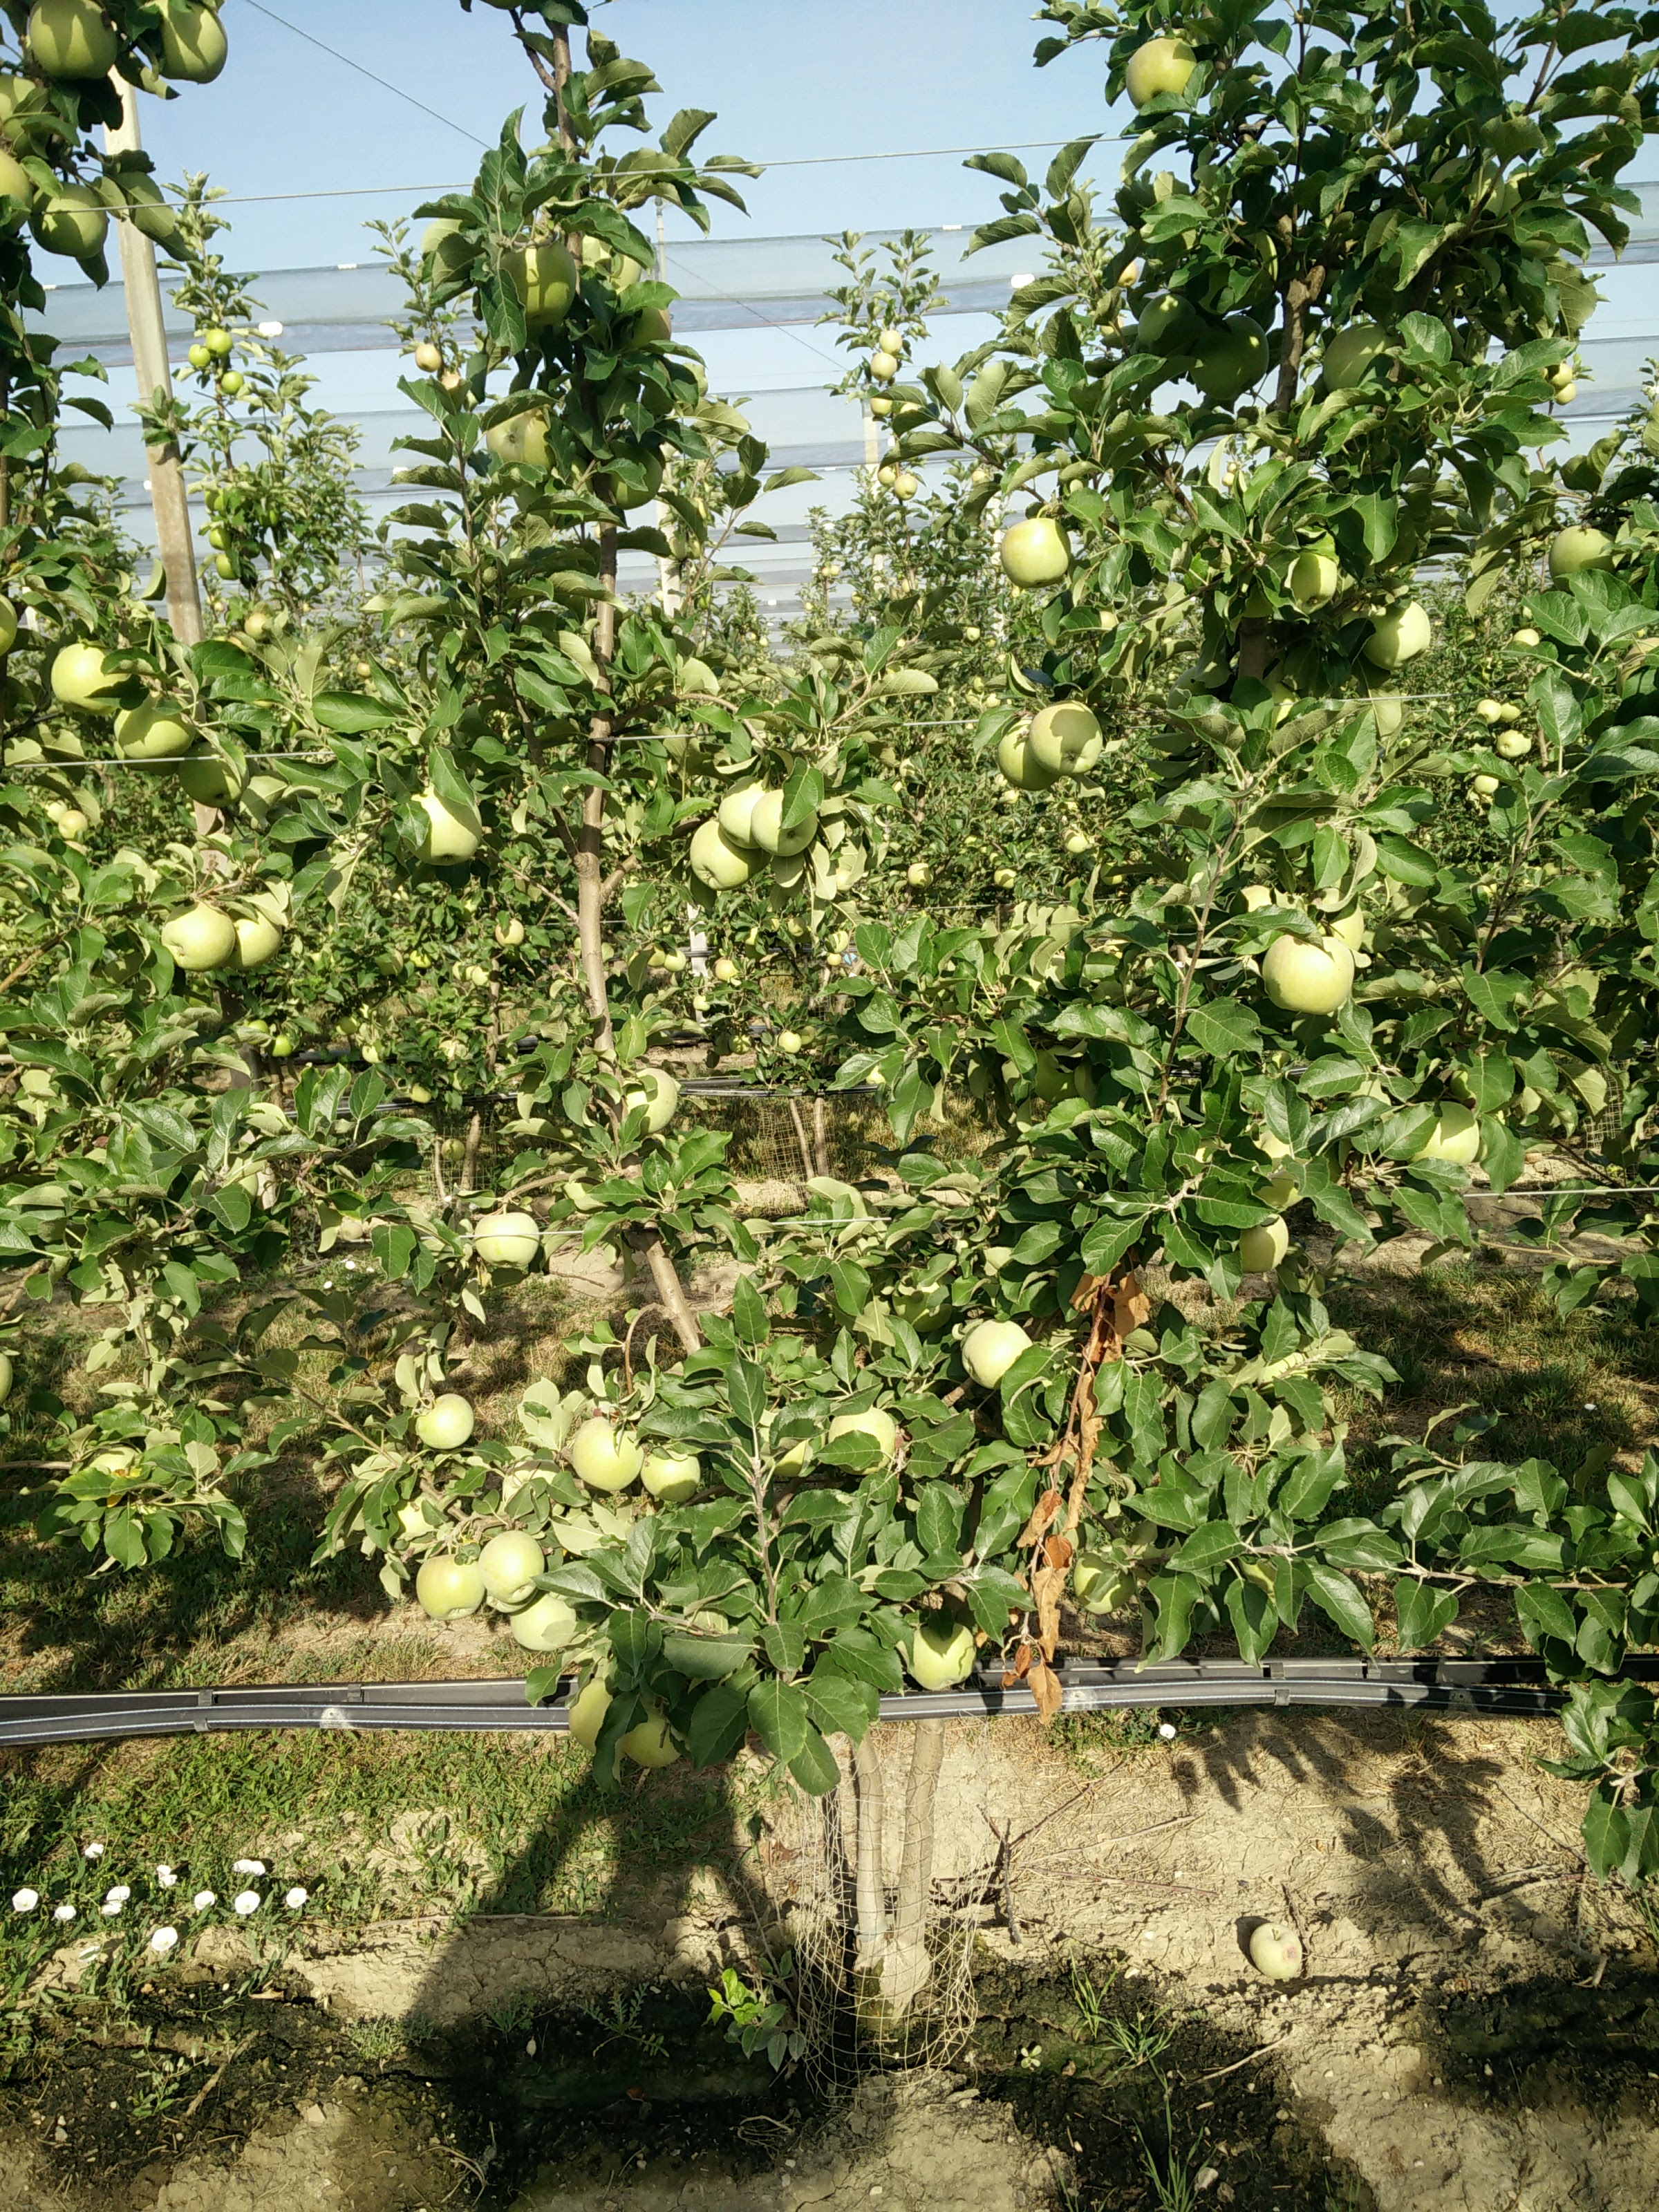apple: (486, 234, 579, 324), (1264, 925, 1357, 1011), (26, 1, 123, 82), (1128, 32, 1209, 112), (32, 176, 110, 259), (401, 782, 477, 860), (897, 1619, 973, 1698), (111, 697, 196, 767), (1026, 699, 1105, 771), (1405, 1096, 1482, 1168), (569, 1414, 641, 1491), (158, 906, 238, 973), (960, 1314, 1032, 1387), (821, 1400, 897, 1472), (51, 640, 126, 711), (560, 1679, 629, 1754), (680, 818, 758, 885), (1360, 598, 1432, 669), (412, 1551, 485, 1622), (476, 1531, 545, 1602), (1000, 514, 1069, 579), (748, 791, 819, 852), (1224, 1210, 1287, 1275), (639, 1445, 705, 1505), (1276, 549, 1338, 611), (221, 912, 286, 973), (1548, 524, 1616, 583), (411, 1396, 473, 1447), (469, 1212, 532, 1262)
